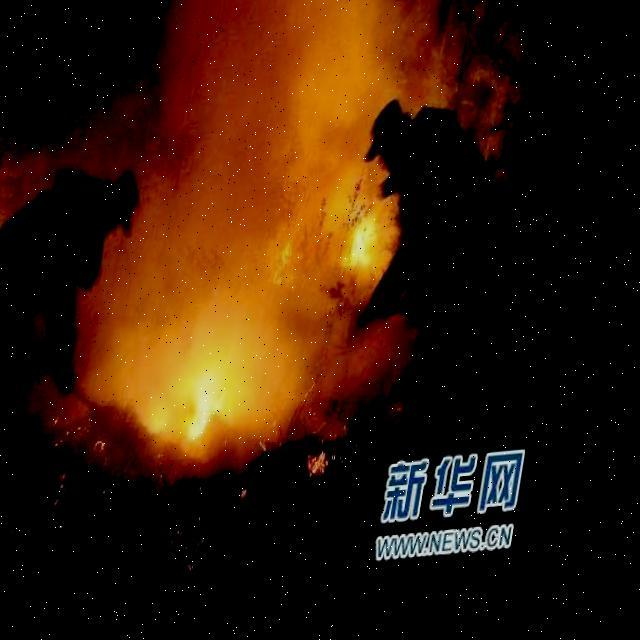Fire: (149, 337, 283, 478), (340, 206, 400, 292)
